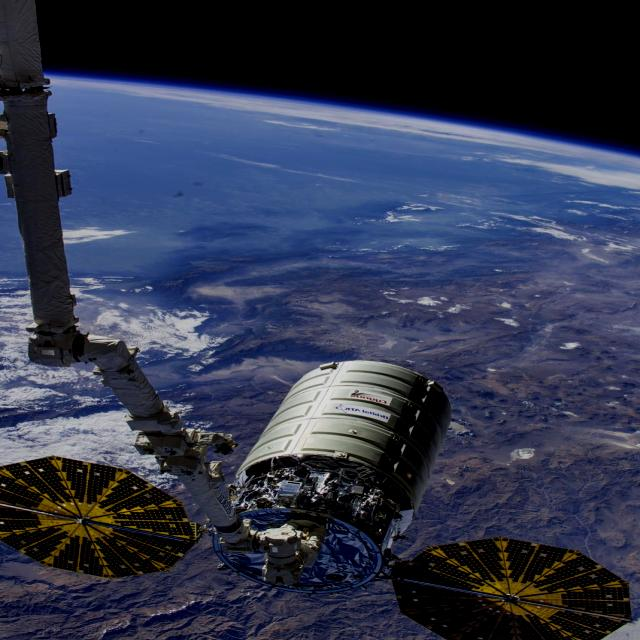satellite: (38, 367, 597, 631)
